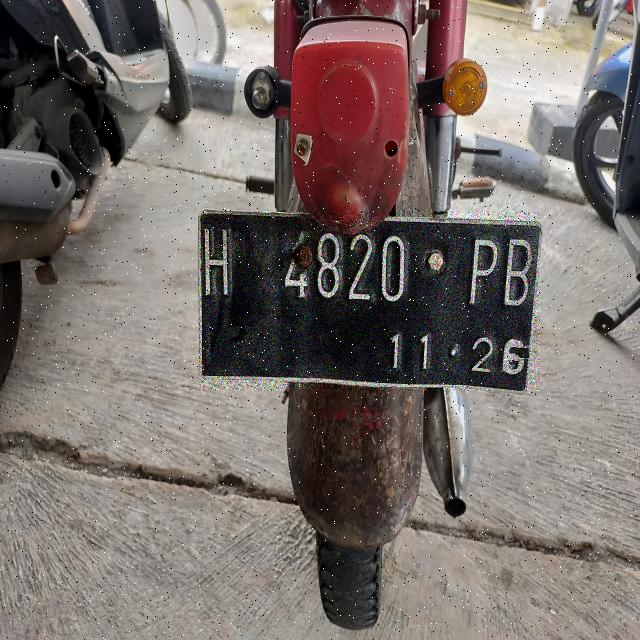plate: (199, 211, 539, 390)
